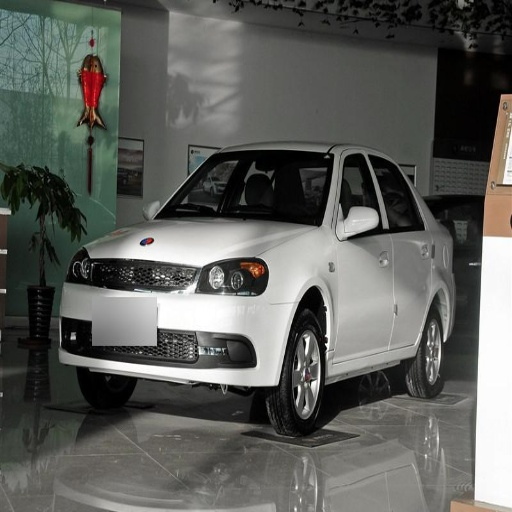front_bumper: (59, 251, 295, 384)
front_glass: (160, 153, 331, 224)
front_left_door: (338, 151, 395, 359)
